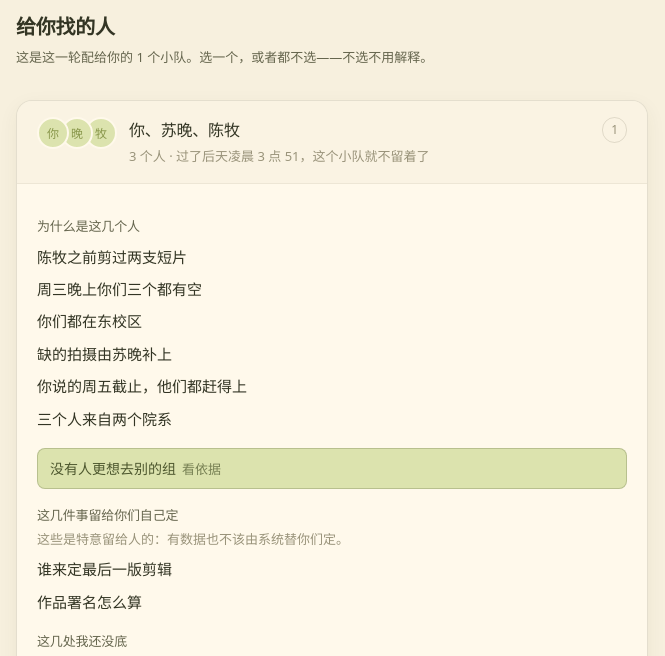
Test: 为什么是这几个人 › 逐条给理由，点一行才展开它是从哪来的
Expected: the button "周三晚上你们三个都有空" is shown, [37, 277, 202, 302]
Expected: the text "这条是他本人同意让你看到的经历" is not shown
Click the button "陈牧之前剪过两支短片": point(112, 257) [37, 245, 187, 270]
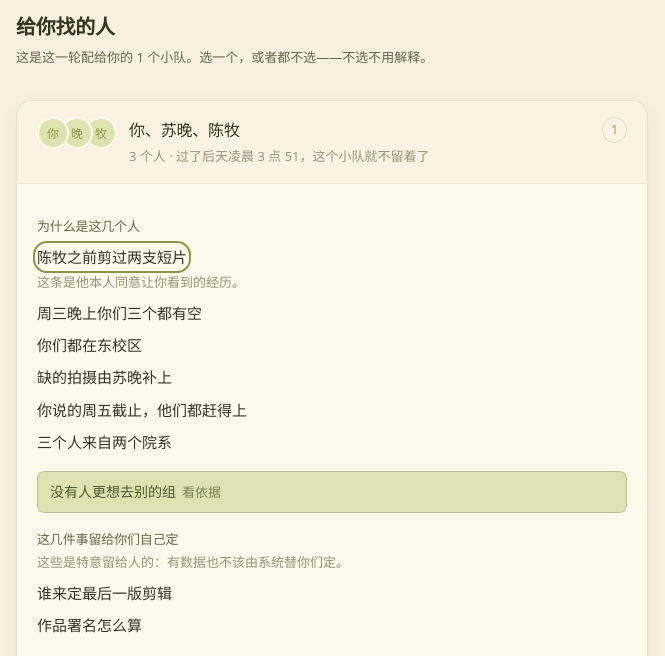
Result: the text "这条是他本人同意让你看到的经历。" is shown at [37, 273, 245, 291]
